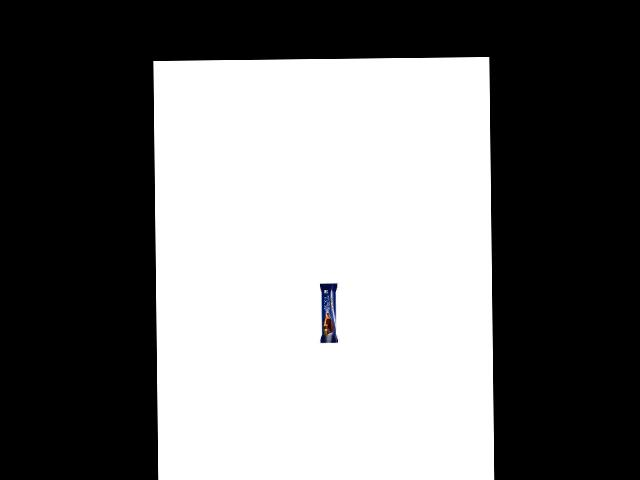chocolate: (313, 281, 339, 350)
